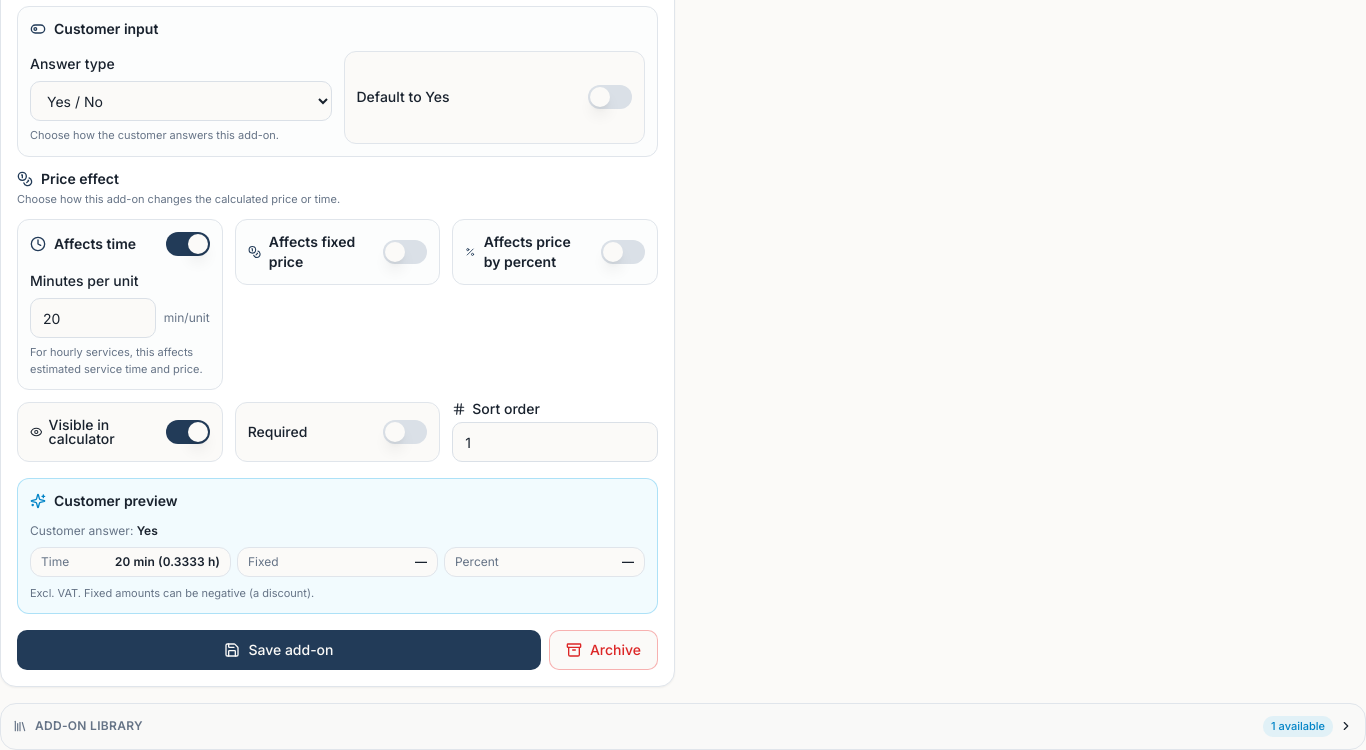
Test: CalculatorAddonsEditor — GPM-CALC-LIBRARY-4 add-on library panel › lists activatable library add-ons and filters out keys already on the service + inactive items
(page scrolled)
Click the button with test id "addon-library-toggle" at (89, 726), box x1=13 y1=716 x2=1353 y2=736
(page scrolled)
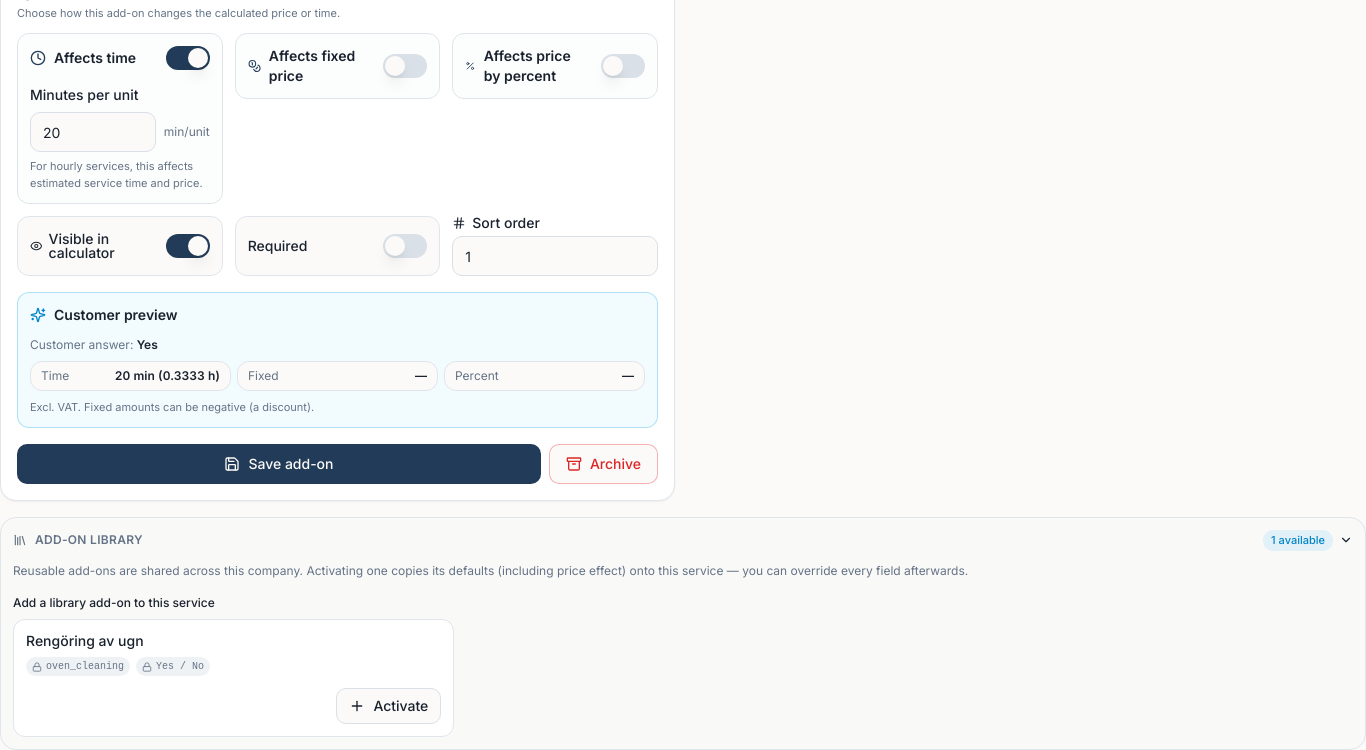
Result: the element with test id "addon-library-item-oven_cleaning" is shown at x1=13 y1=618 x2=454 y2=737
